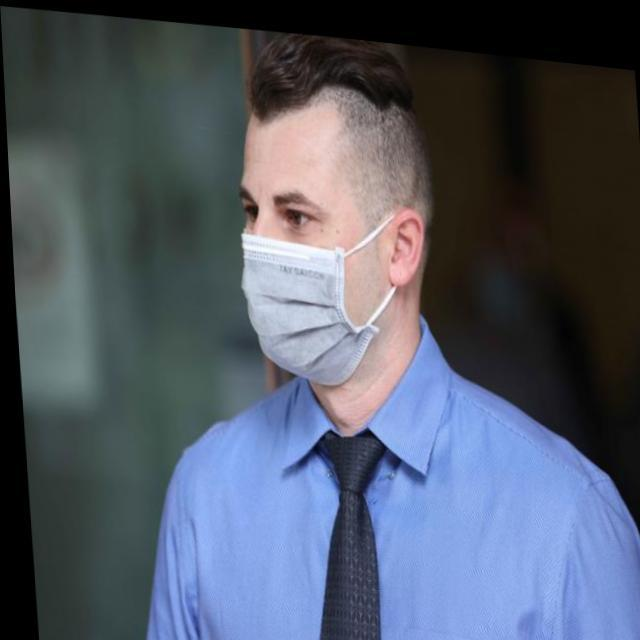Nonhelmet: (229, 30, 439, 390)
